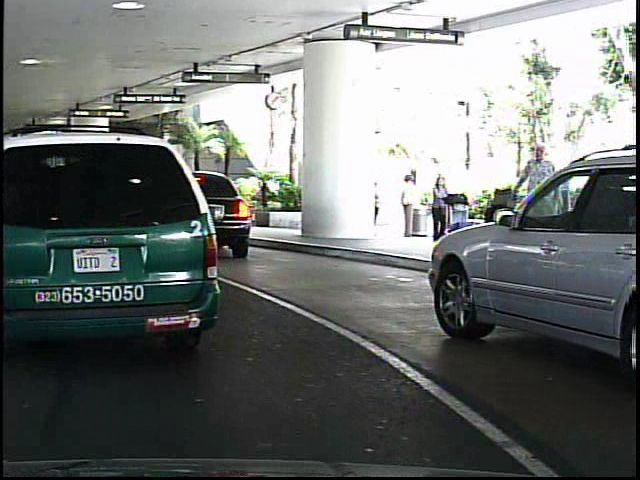person: (507, 135, 564, 276), (422, 170, 449, 238)
